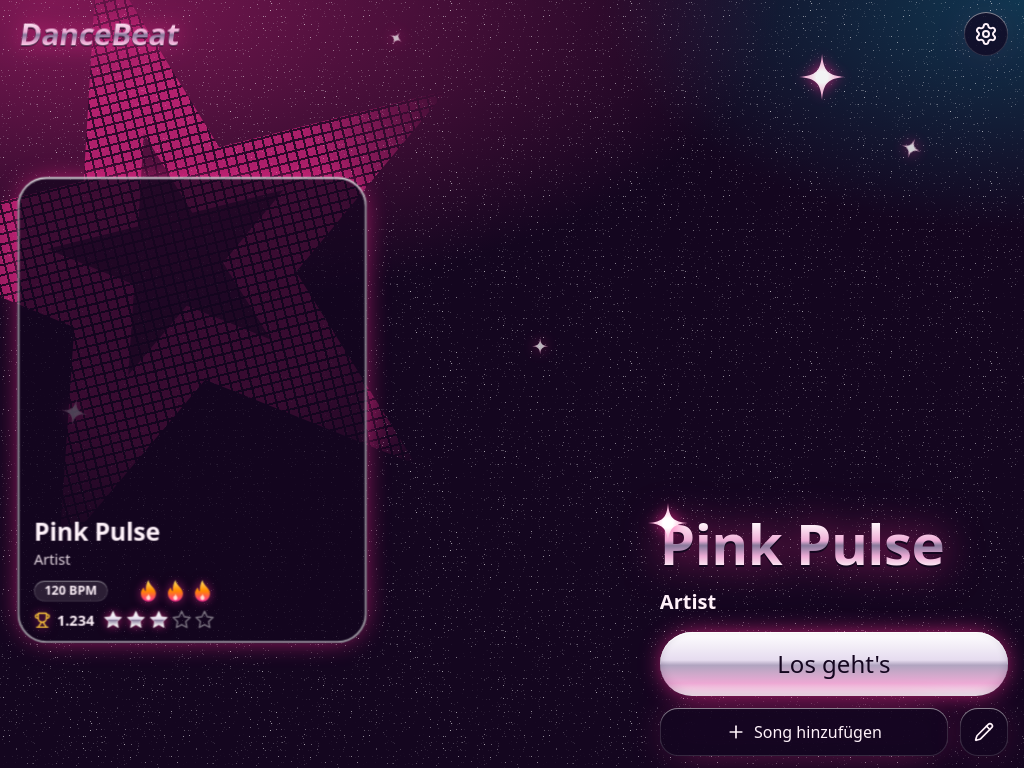
it: Regenerate choreography in the edit dialog › presets the difficulty again when the dialog reopens
This screenshot has width=1024, height=768.
Click the button named "Song bearbeiten" at (984, 732), box [960,708,1008,756]
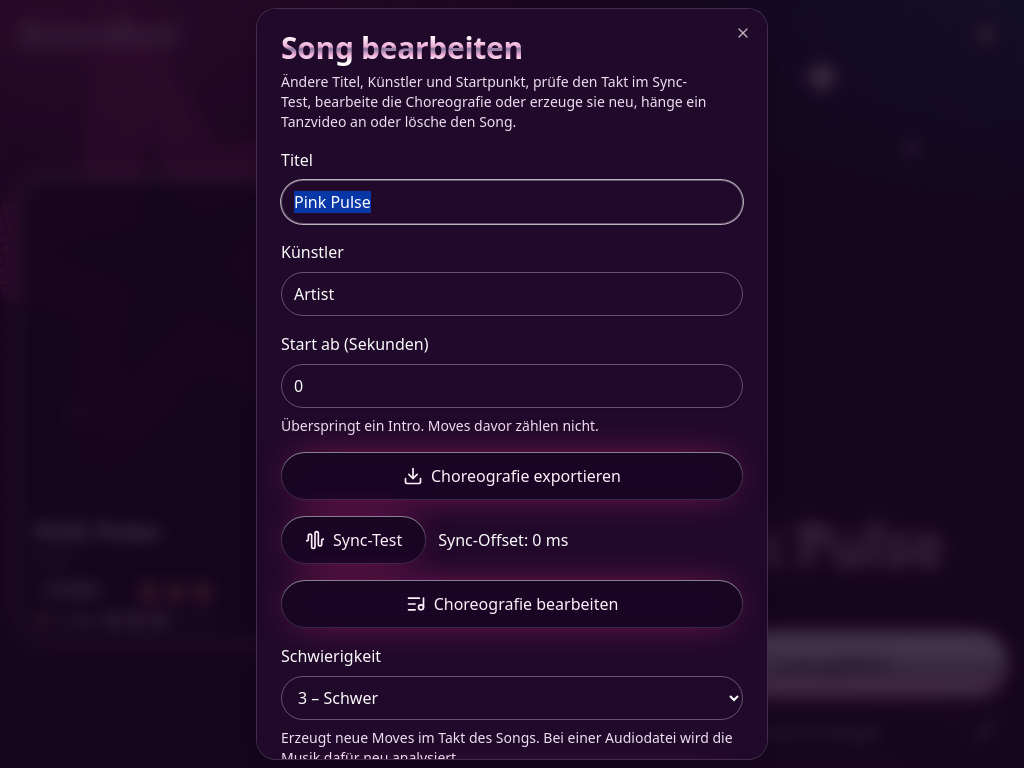
Check: the dropdown labelled "Schwierigkeit" shows "3 – Schwer"
Select "1 – Leicht" in the dropdown labelled "Schwierigkeit" at (512, 698), box [281,676,743,720]
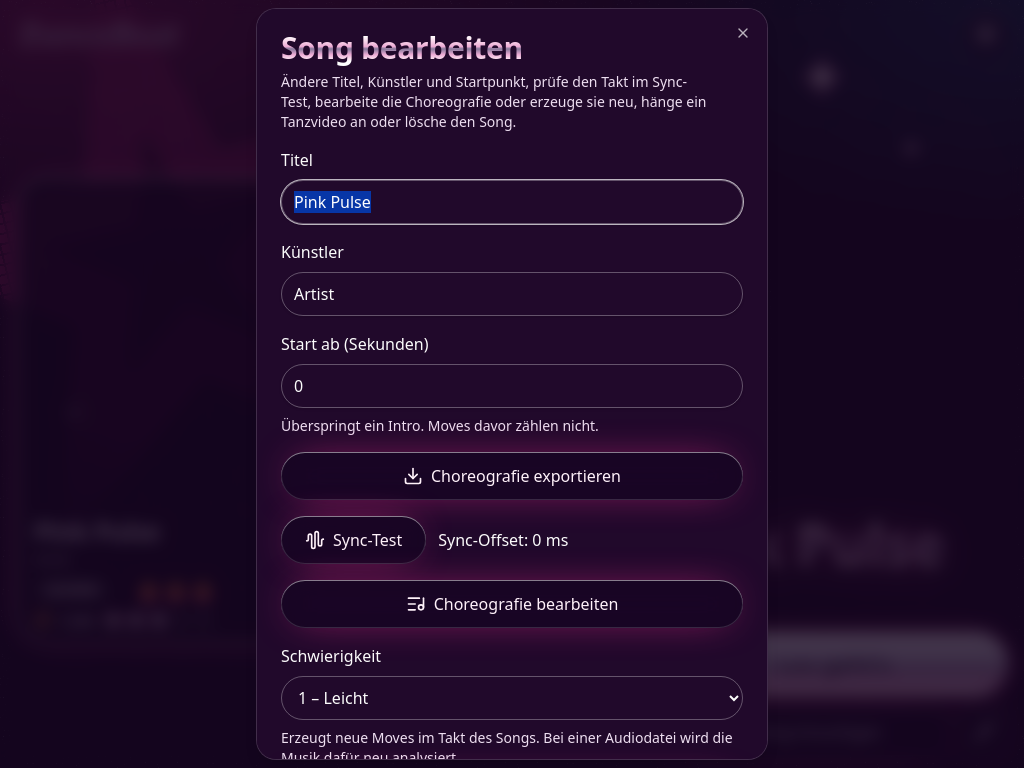
Press Escape in the dialog "Song bearbeiten", box [256,8,768,760]
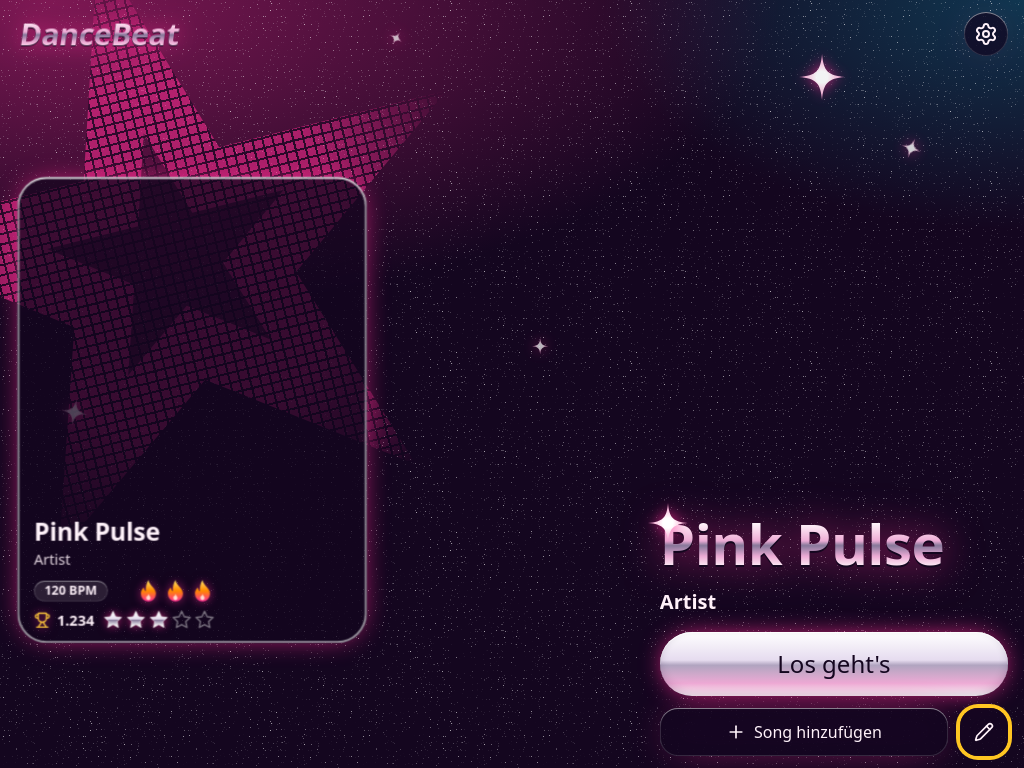
Check: the dialog is gone
Click the button named "Song bearbeiten" at (984, 732), box [960,708,1008,756]
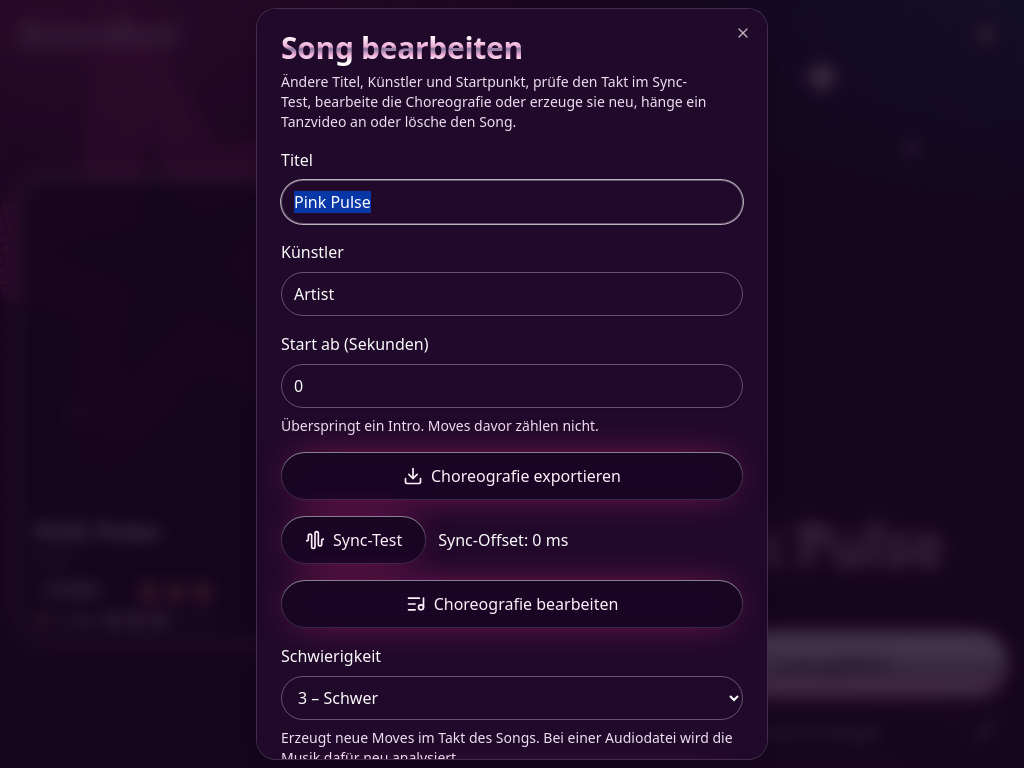
Check: the dropdown labelled "Schwierigkeit" shows "3 – Schwer", box [281,676,743,720]
